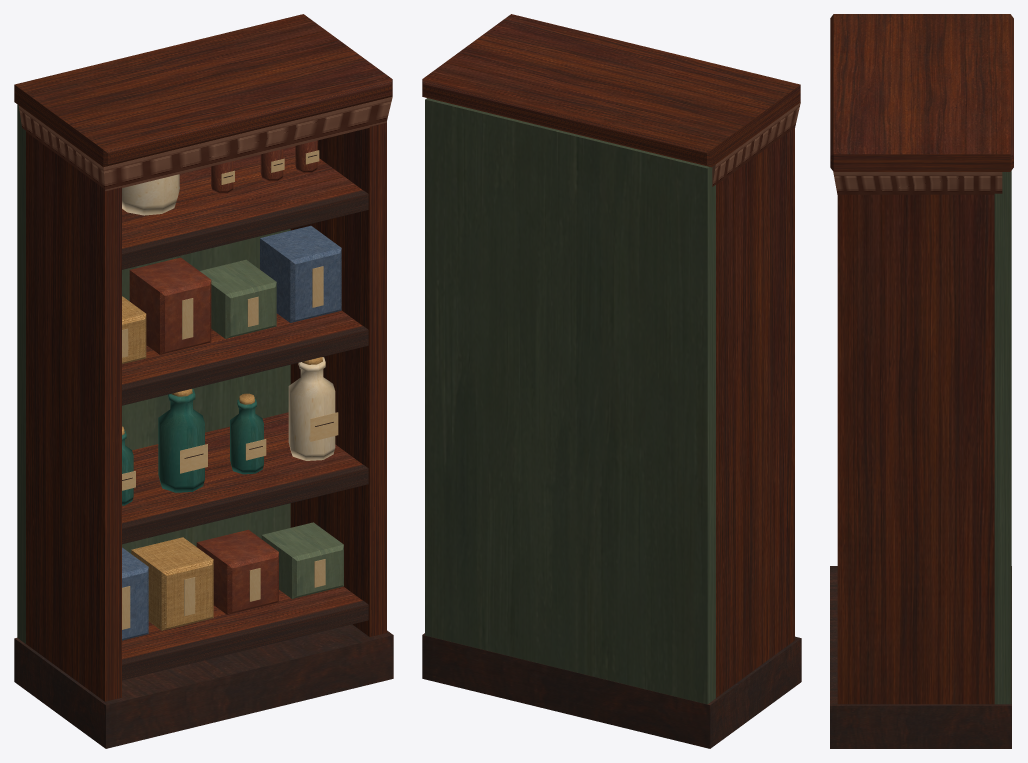
The model's file is city1880-shelf-stocked.gltf.
3 views of the same model, side by side, from view 1: azimuth 30°, elevation 25°; view 2: azimuth 150°, elevation 25°; view 3: azimuth 270°, elevation 25° (orthographic).
Parts seen in each view (by area): view 1: Open shop shelving · stocked; view 2: Open shop shelving · stocked; view 3: Open shop shelving · stocked.
Boxes of the visible parts, left/top/right/bottom form: Open shop shelving · stocked: left=14, top=14, right=393, bottom=748; Open shop shelving · stocked: left=422, top=14, right=801, bottom=748; Open shop shelving · stocked: left=830, top=14, right=1013, bottom=748.
Bounding box in the file's own units: 0.998 × 1.97 × 0.5525.
Materials: 2 (2 with a texture image).
